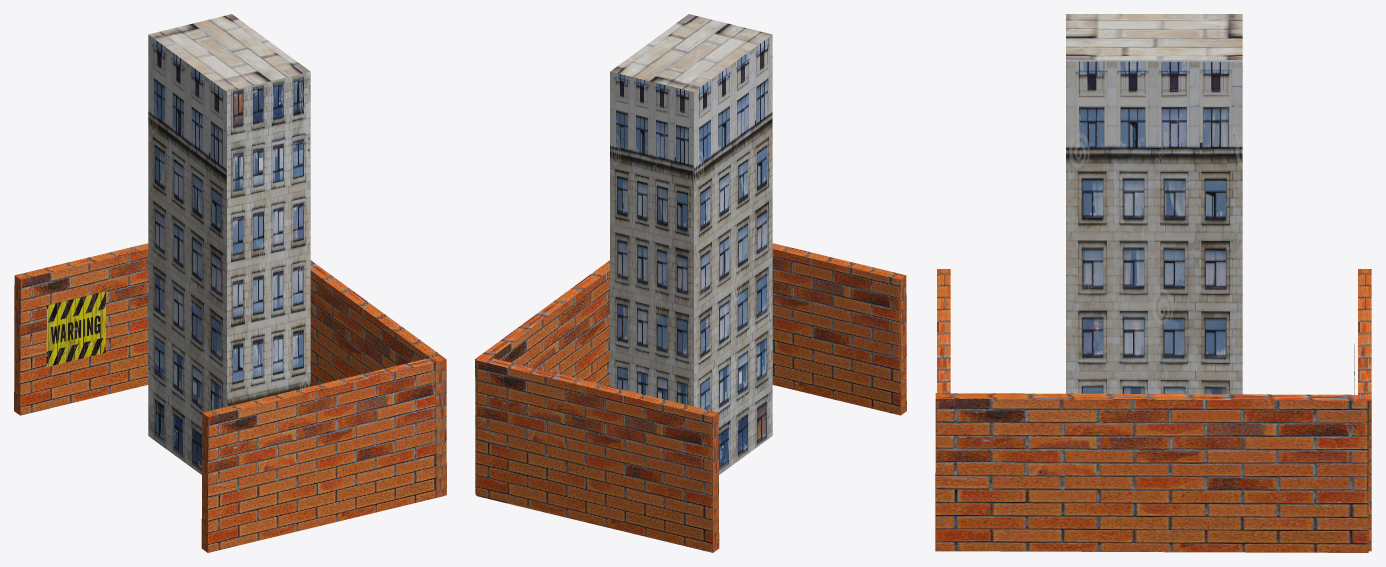
The model's file is Edificio3.glb.
3 renders of one model, left to right at view 1: azimuth 30°, elevation 25°; view 2: azimuth 150°, elevation 25°; view 3: azimuth 270°, elevation 25°, orthographic. The views are drawn at different scales.
Parts seen in each view (by area): view 1: Cube, Cubo.001, Cubo, Cubo.002, Plano; view 2: Cube, Cubo, Cubo.001, Cubo.002; view 3: Cubo.002, Cube, Cubo, Cubo.001.
Part boxes in pixels (x1,y1,x2,y2): Cube: (148, 14, 310, 474); Cubo.001: (201, 358, 443, 552); Cubo: (14, 243, 148, 415); Cubo.002: (310, 260, 446, 497); Plano: (46, 291, 105, 366); Cube: (610, 14, 772, 474); Cubo: (476, 355, 719, 552); Cubo.001: (772, 243, 906, 415); Cubo.002: (475, 260, 609, 494); Cubo.002: (935, 393, 1368, 552); Cube: (1066, 14, 1242, 394); Cubo: (1358, 269, 1371, 551); Cubo.001: (937, 269, 950, 393).
Bounding box in the file's own units: 8.1 × 12.99 × 11.41.
Materials: 5 (5 with a texture image).
